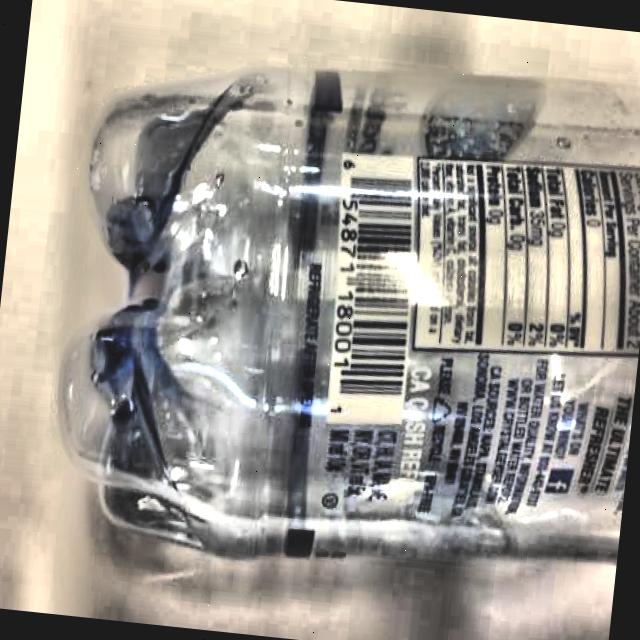plastic: (46, 37, 640, 590)
